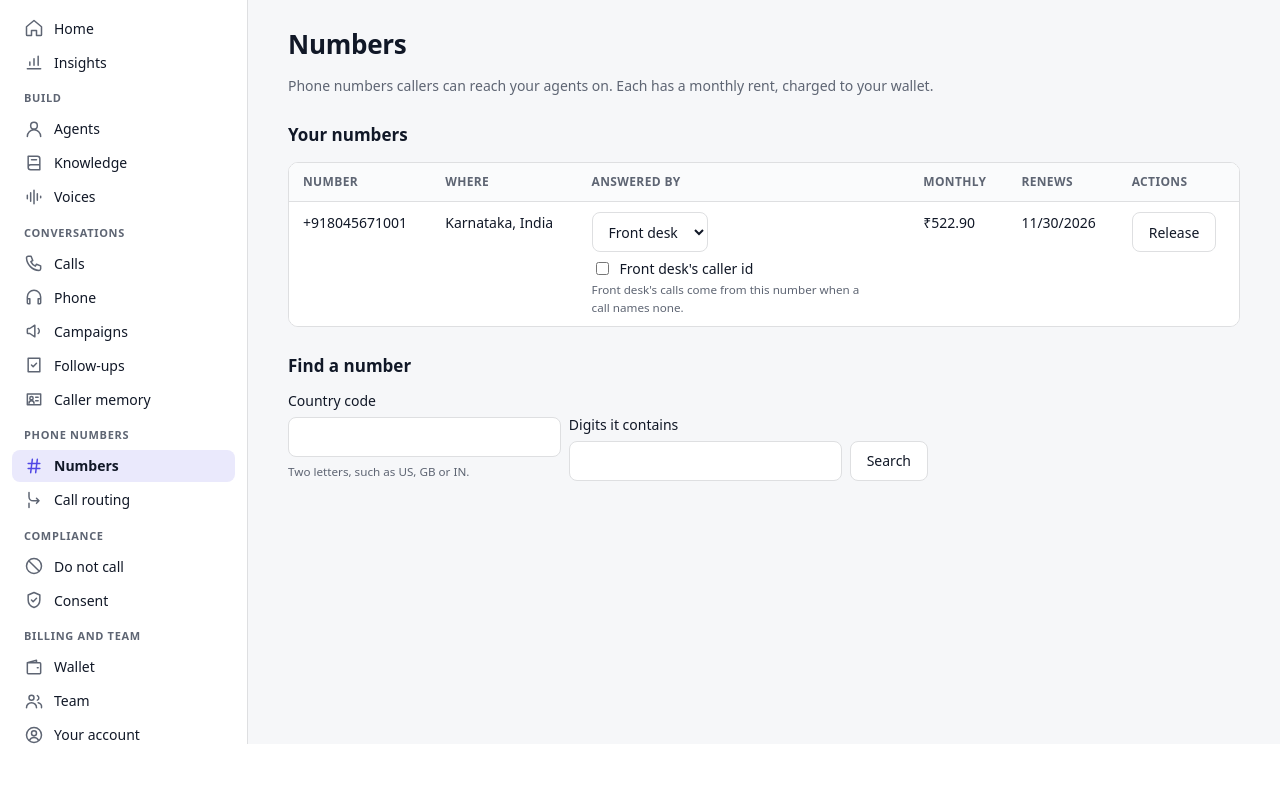
the numbers › chooses the agent that answers, with the backend's word on it
Select "No agent" in the dropdown named "Agent answering +918045671001": x=650, y=232 x1=592 y1=212 x2=708 y2=252
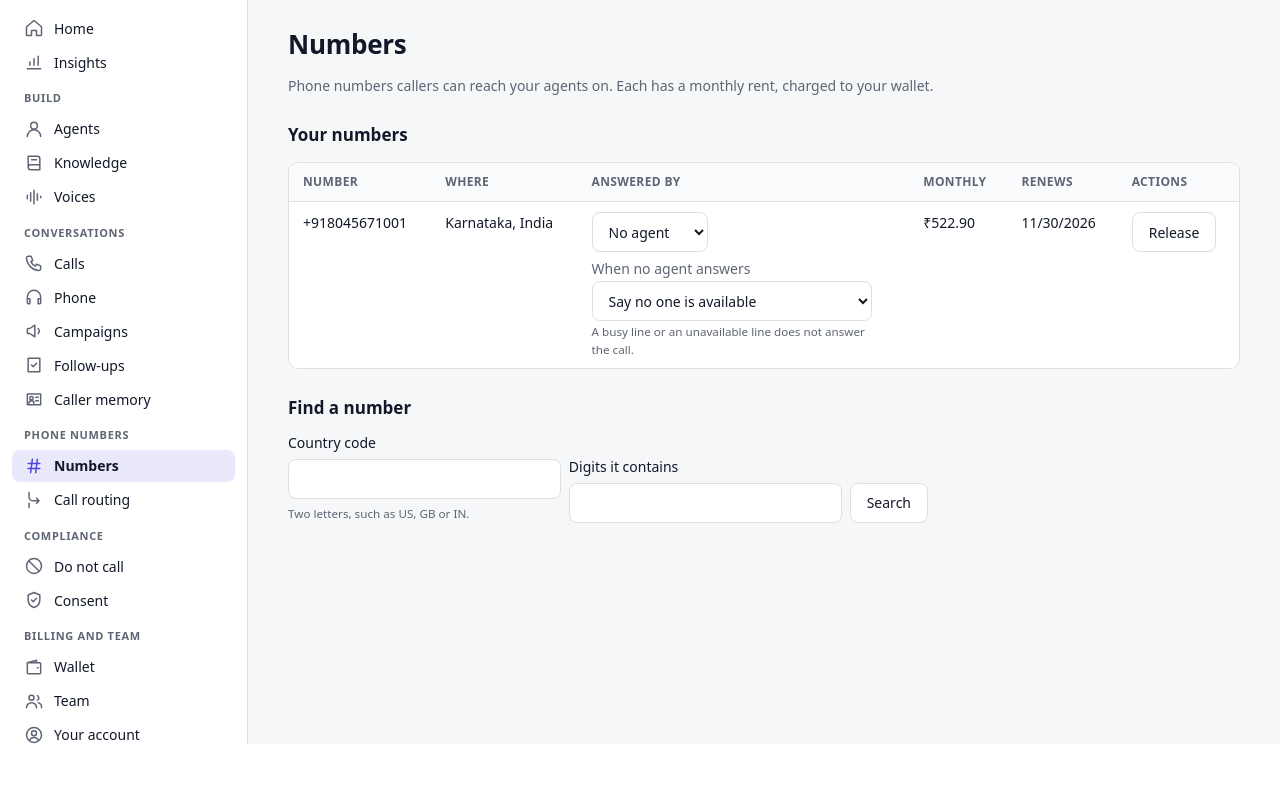
Select "Billing" in the dropdown named "Agent answering +918045671001": x=650, y=232 x1=592 y1=212 x2=708 y2=252
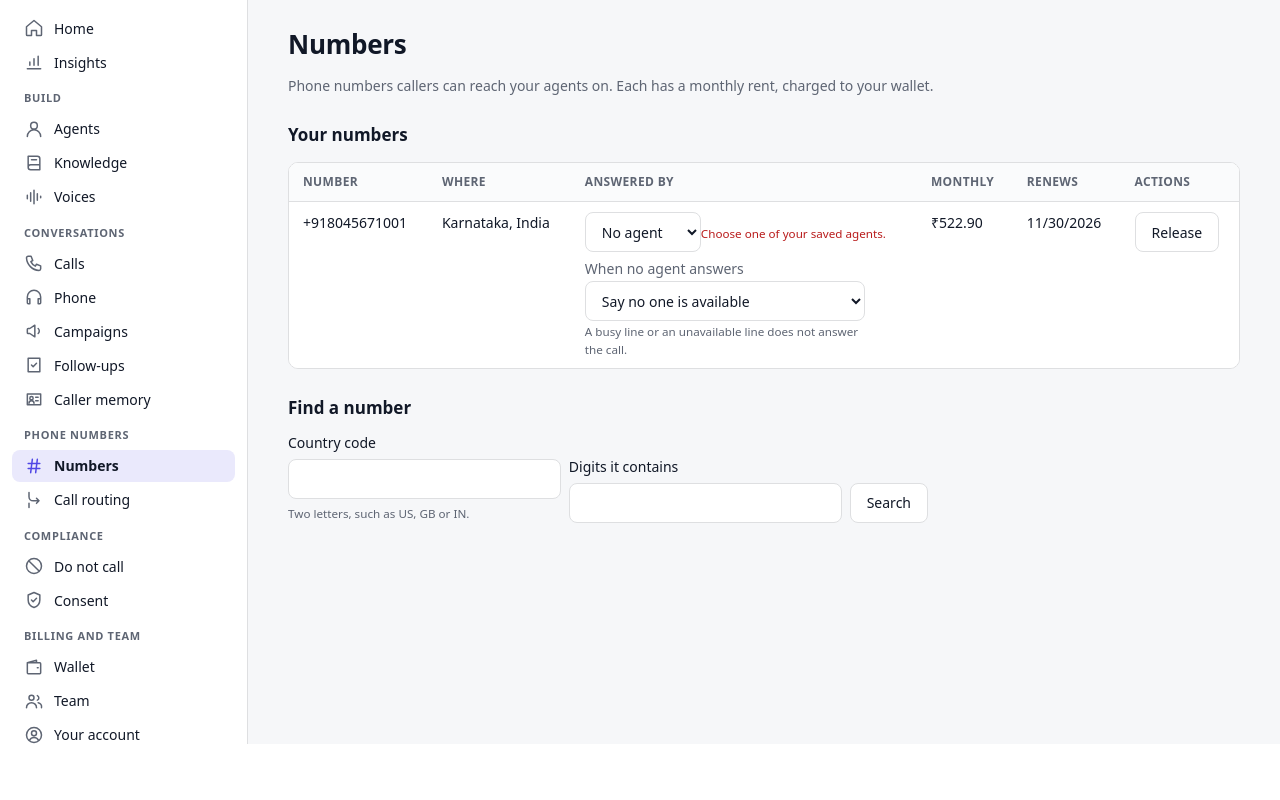
expect the message reads "Choose one of your saved agents.": met, box x1=701 y1=226 x2=886 y2=241
